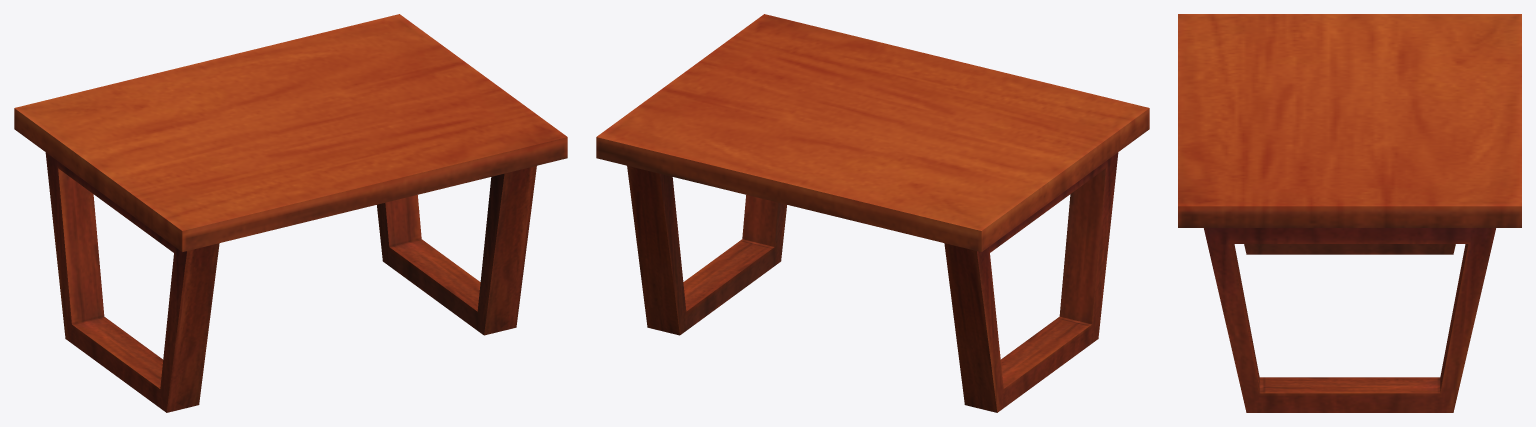
The model's file is desk_02.DAE.
The picture shows the model from 3 angles, left to right: view 1: azimuth 30°, elevation 25°; view 2: azimuth 150°, elevation 25°; view 3: azimuth 270°, elevation 25°; orthographic projection. The views are drawn at different scales.
Visible parts, largest first — view 1: desk_02; view 2: desk_02; view 3: desk_02.
Part boxes in pixels (x1,y1,x2,y2): desk_02: (14,14,567,412); desk_02: (596,14,1149,412); desk_02: (1178,14,1521,412).
Bounding box in the file's own units: 231 × 121 × 175.
